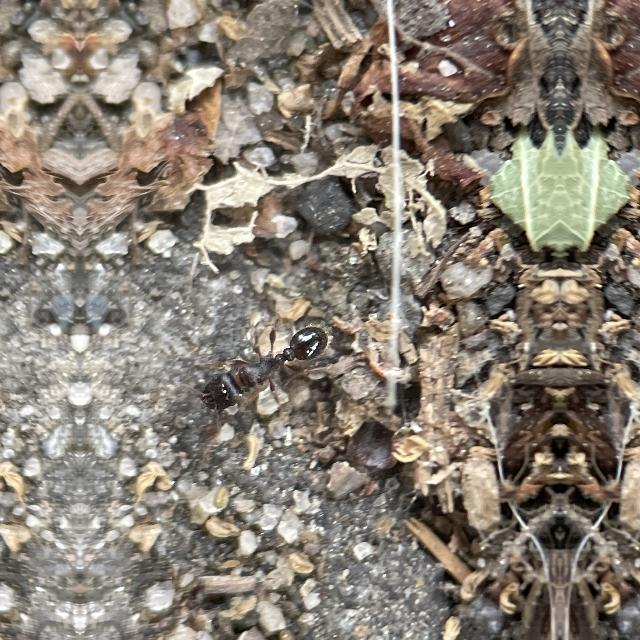Tetramorium: (175, 306, 341, 416)
